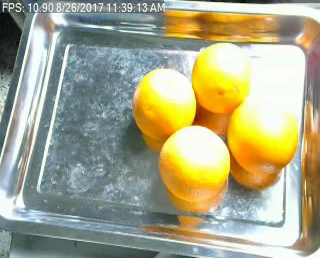Orange: (157, 125, 231, 202), (228, 94, 298, 174), (131, 69, 196, 142), (191, 43, 253, 114)
